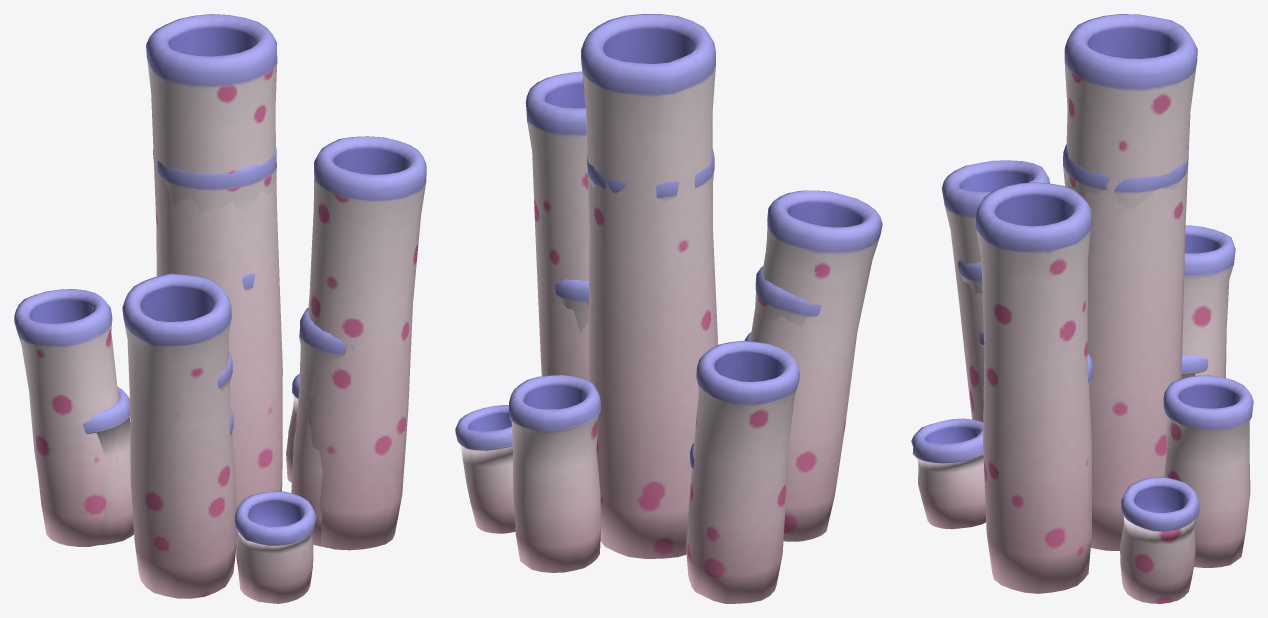
The model's file is TubeSponge_Blossom.fbx.
3 views of the same model, side by side, from view 1: azimuth 30°, elevation 25°; view 2: azimuth 150°, elevation 25°; view 3: azimuth 270°, elevation 25° (orthographic). The views are drawn at different scales.
Parts seen in each view (by area): view 1: TubeSponge_Blossom_S3, TubeSponge_Blossom_S2; view 2: TubeSponge_Blossom_S3, TubeSponge_Blossom_S2; view 3: TubeSponge_Blossom_S3, TubeSponge_Blossom_S2.
Boxes of the visible parts, x1,y1,x2,y2 form: TubeSponge_Blossom_S3: [14, 14, 426, 603]; TubeSponge_Blossom_S2: [83, 147, 353, 547]; TubeSponge_Blossom_S3: [455, 14, 882, 603]; TubeSponge_Blossom_S2: [555, 149, 821, 580]; TubeSponge_Blossom_S3: [911, 14, 1253, 603]; TubeSponge_Blossom_S2: [957, 144, 1208, 387].
Bounding box in the file's own units: 0.3766 × 0.5304 × 0.3317.
